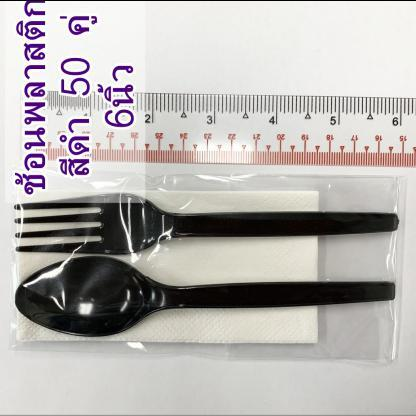Others: (12, 192, 400, 336)
